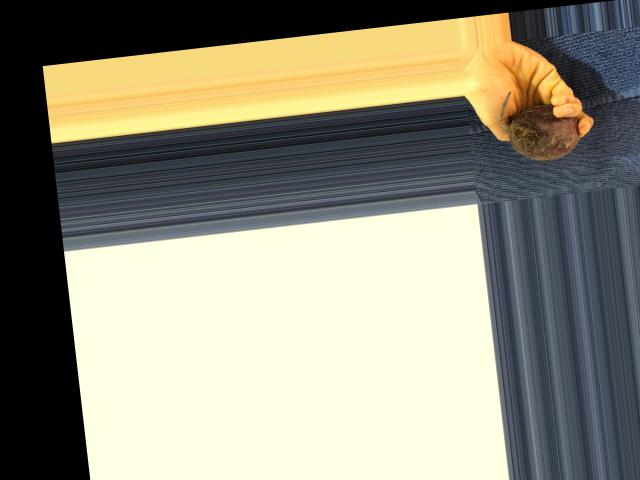beet: (496, 82, 582, 164)
